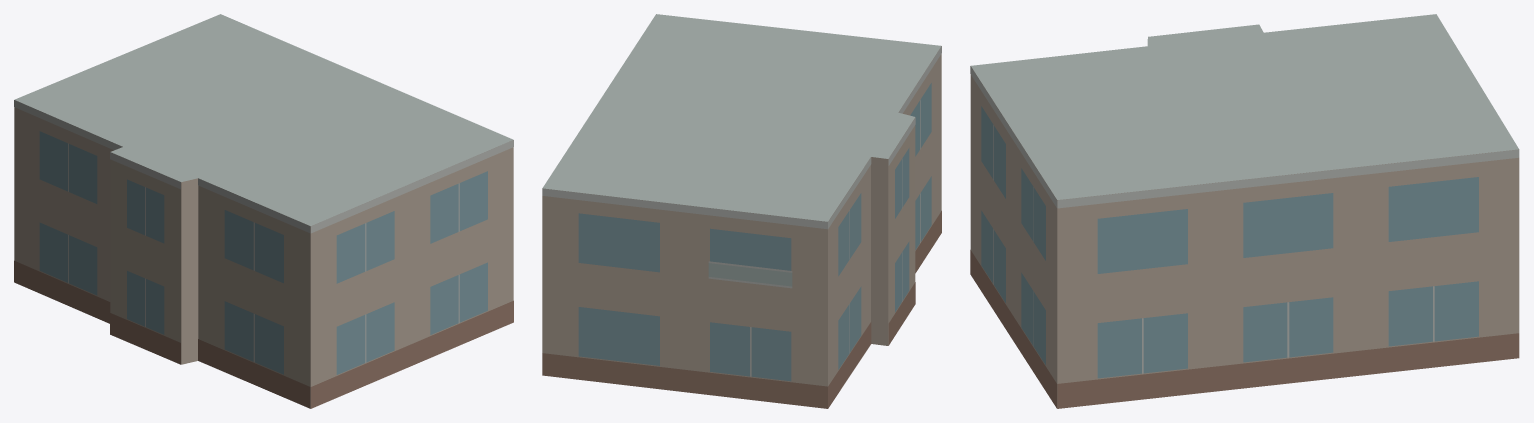
The model's file is survey-upis-32994024.glb.
The picture shows the model from 3 angles, left to right: view 1: azimuth 30°, elevation 25°; view 2: azimuth 150°, elevation 25°; view 3: azimuth 270°, elevation 25°; orthographic projection. The views are drawn at different scales.
Parts seen in each view (by area): view 1: survey-upis-32994024.tmp; view 2: survey-upis-32994024.tmp; view 3: survey-upis-32994024.tmp.
Boxes of the visible parts, x1,y1,x2,y2 form: survey-upis-32994024.tmp: (14,14,513,408); survey-upis-32994024.tmp: (542,14,941,408); survey-upis-32994024.tmp: (970,14,1519,408).
Size of the model in its own units: 11.67 by 6.1 by 14.54.
